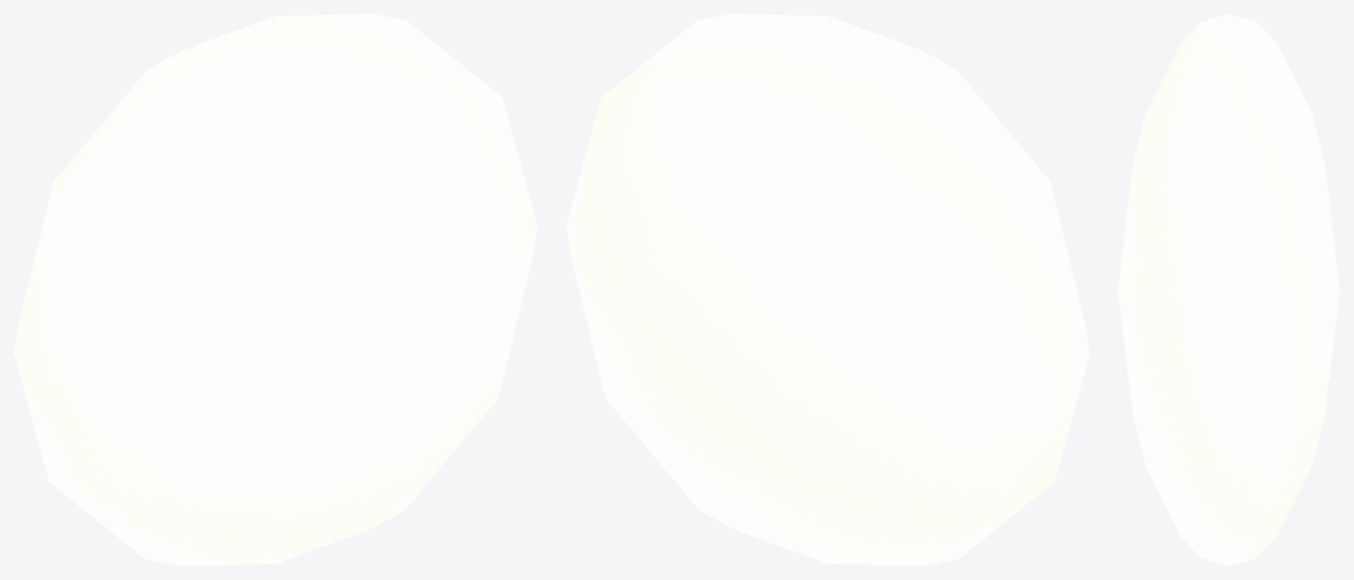
The model's file is sp_lift_callglow.glb.
3 views of the same model, side by side, from view 1: azimuth 30°, elevation 25°; view 2: azimuth 150°, elevation 25°; view 3: azimuth 270°, elevation 25° (orthographic). The views are drawn at different scales.
Parts seen in each view (by area): view 1: spire; view 2: spire; view 3: spire.
Part boxes in pixels (bbox=[...]): spire: bbox=[14, 14, 537, 565]; spire: bbox=[566, 14, 1089, 565]; spire: bbox=[1118, 14, 1339, 565].
Size of the model in its own units: 0.18 by 0.18 by 0.072.
